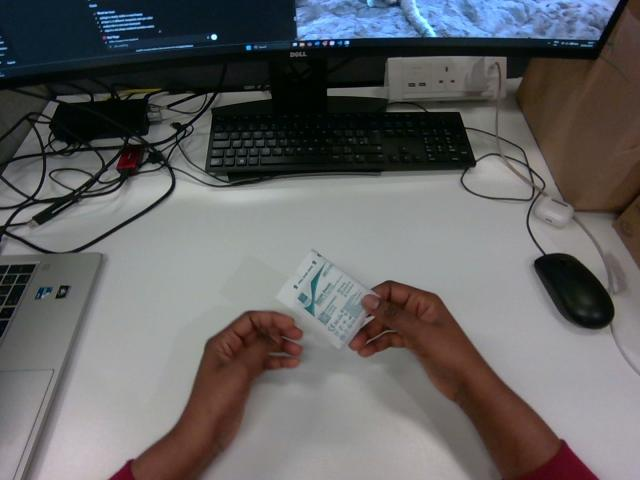gauze: (276, 250, 374, 347)
